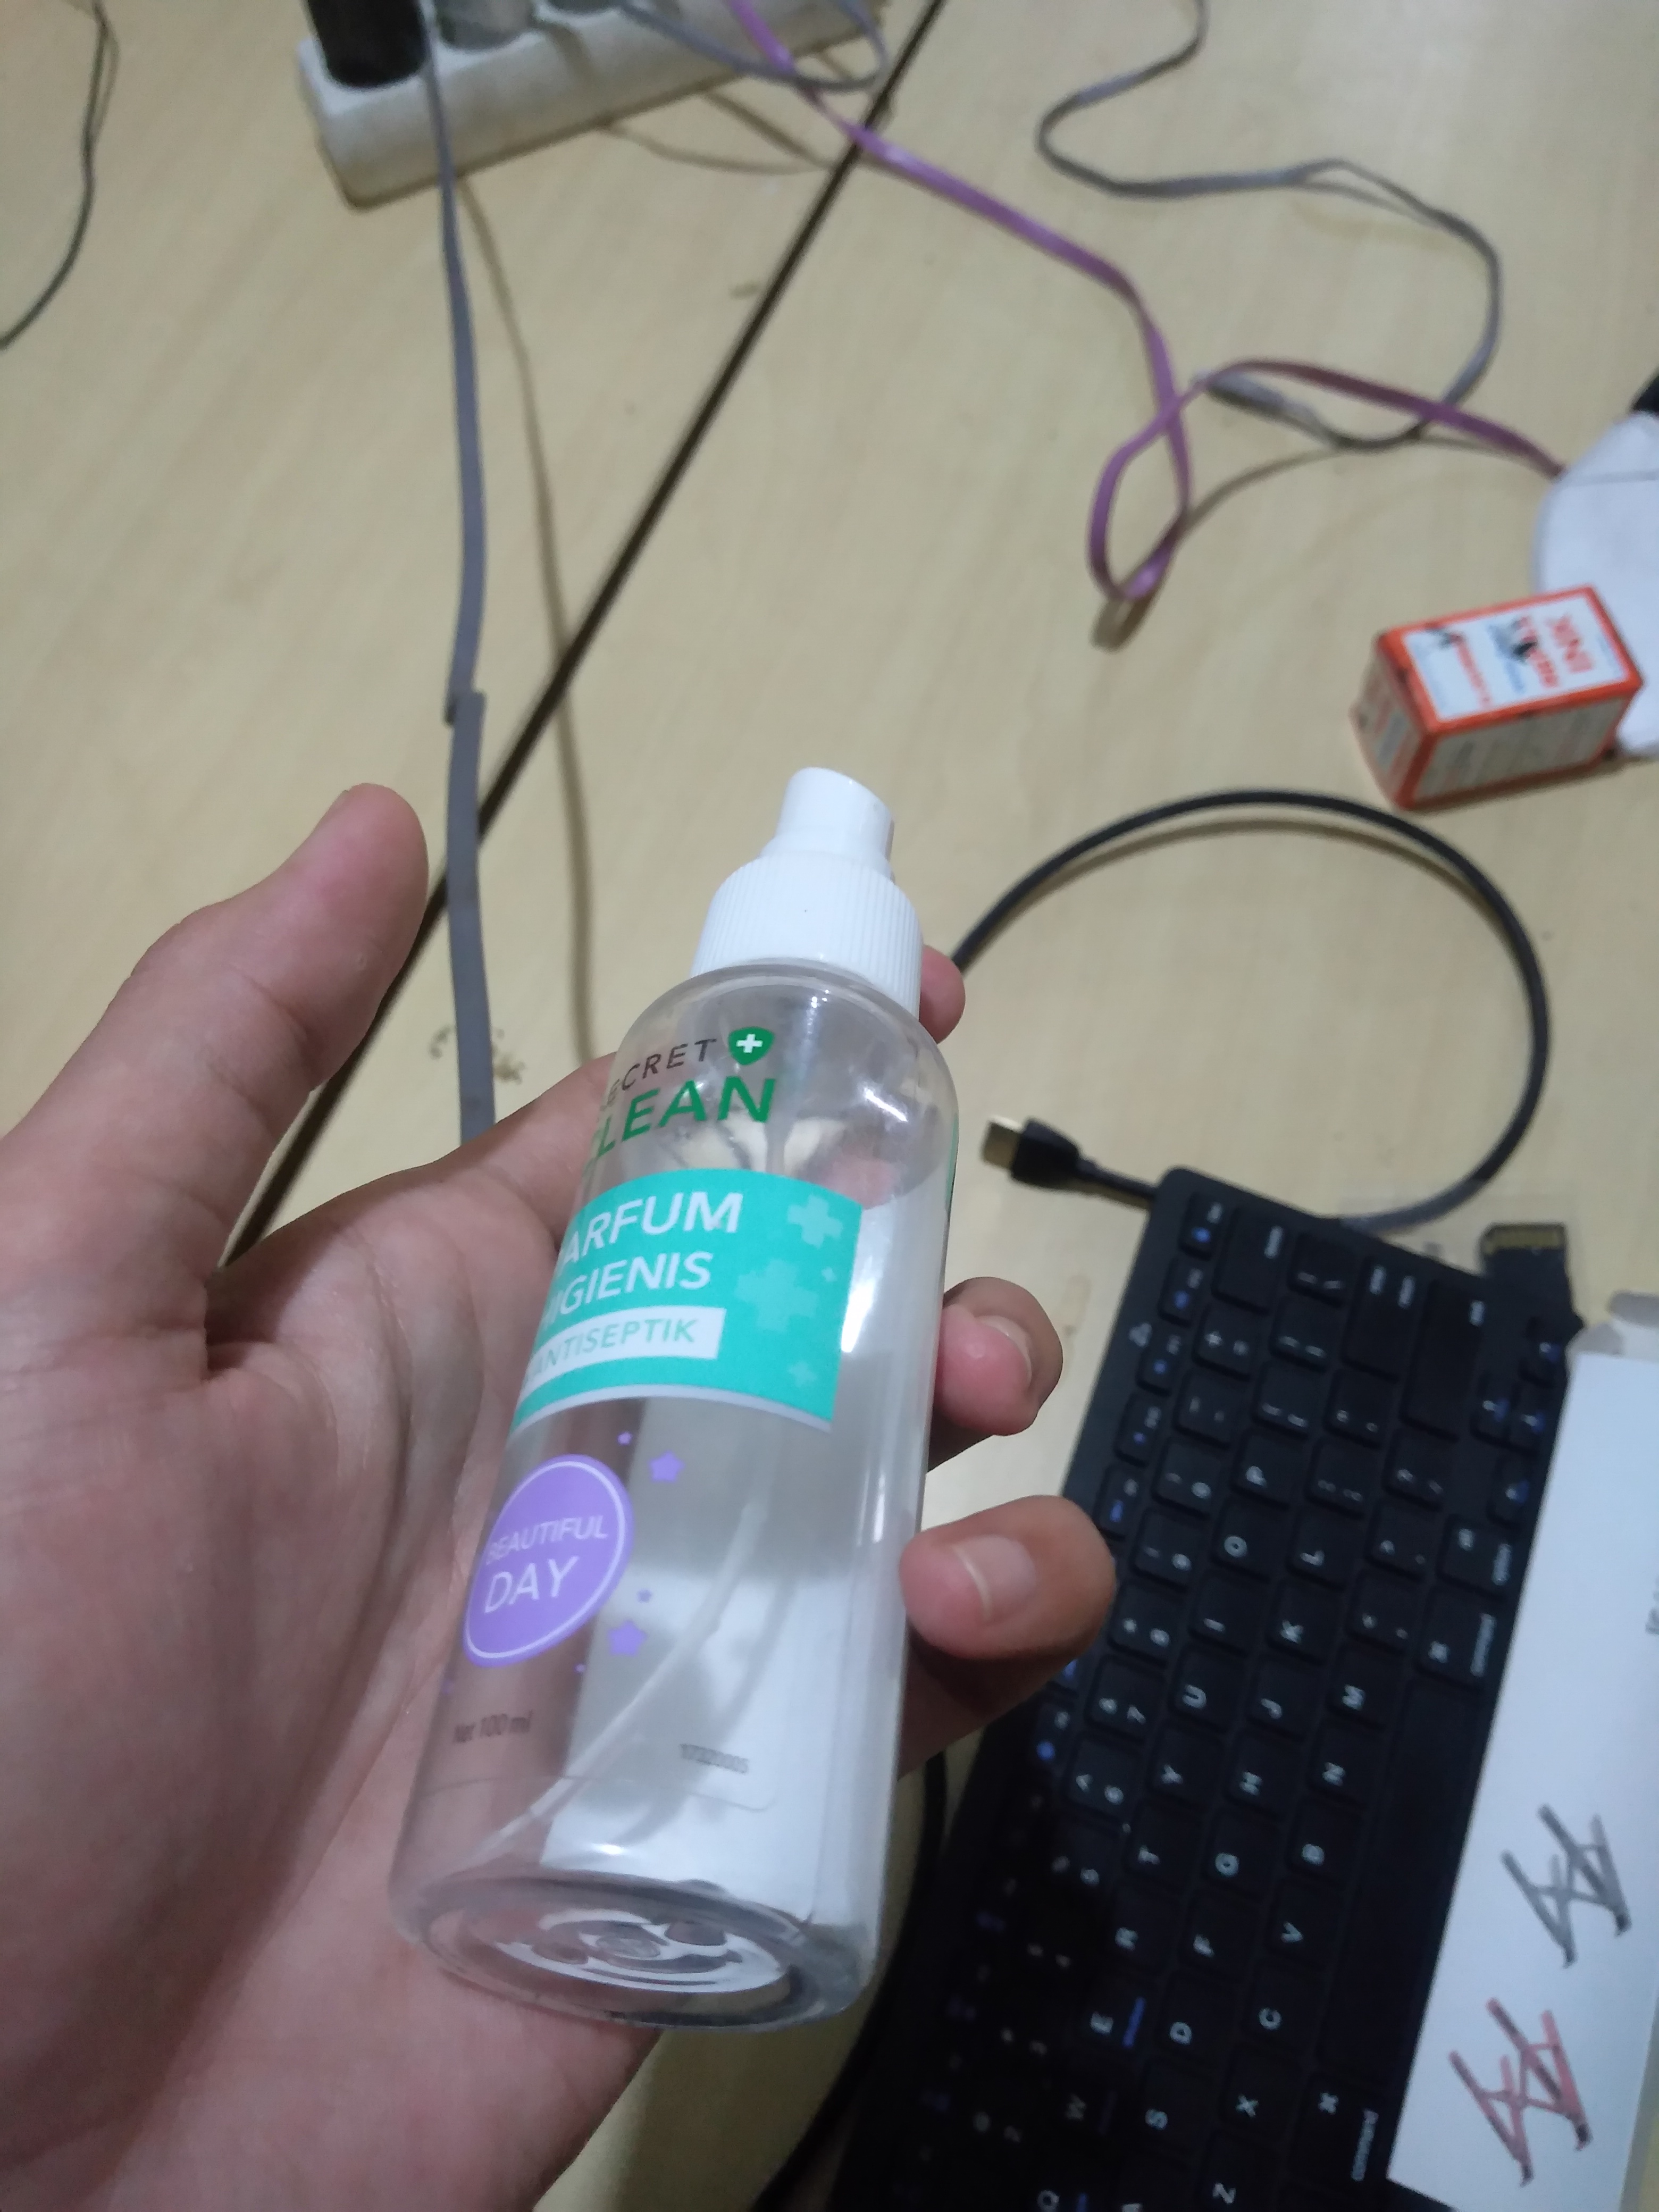hand sanitizer: (342, 636, 978, 2090)
